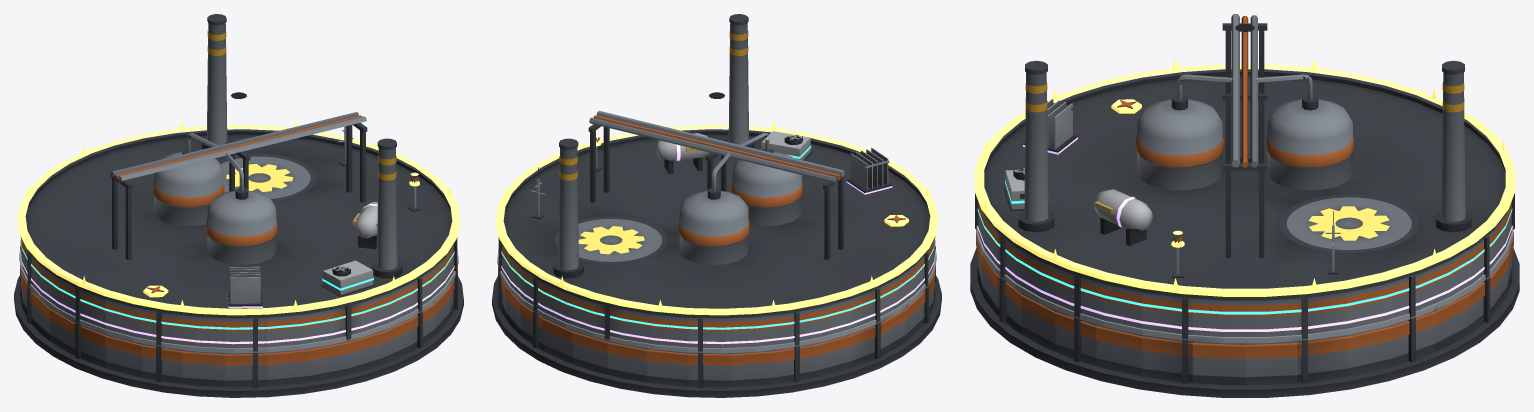
The model's file is polymer_plant_m_far.glb.
3 views of the same model, side by side, from view 1: azimuth 30°, elevation 25°; view 2: azimuth 150°, elevation 25°; view 3: azimuth 270°, elevation 25° (orthographic). The views are drawn at different scales.
Parts seen in each view (by area): view 1: Roof, Base, L5, L4, L2, L3; view 2: Roof, Base, L5, L4, L2, L3; view 3: Roof, Base, L5, L4, L2, L3.
Part boxes in pixels (box(x1,y1,x2,y2)): Roof: box(20, 14, 457, 351); Base: box(14, 246, 463, 397); L5: box(17, 121, 460, 315); L4: box(20, 201, 457, 344); L2: box(19, 126, 458, 353); L3: box(20, 236, 457, 329); Roof: box(498, 14, 935, 351); Base: box(492, 246, 941, 397); L5: box(495, 121, 938, 315); L4: box(498, 133, 935, 344); L2: box(497, 167, 936, 353); L3: box(498, 131, 935, 329); Roof: box(975, 14, 1514, 339); Base: box(970, 229, 1519, 397); L5: box(974, 59, 1515, 296); L4: box(977, 99, 1512, 331); L2: box(976, 211, 1513, 343); L3: box(977, 157, 1512, 314).
Size of the model in its own units: 14.75 by 7.52 by 14.75.
